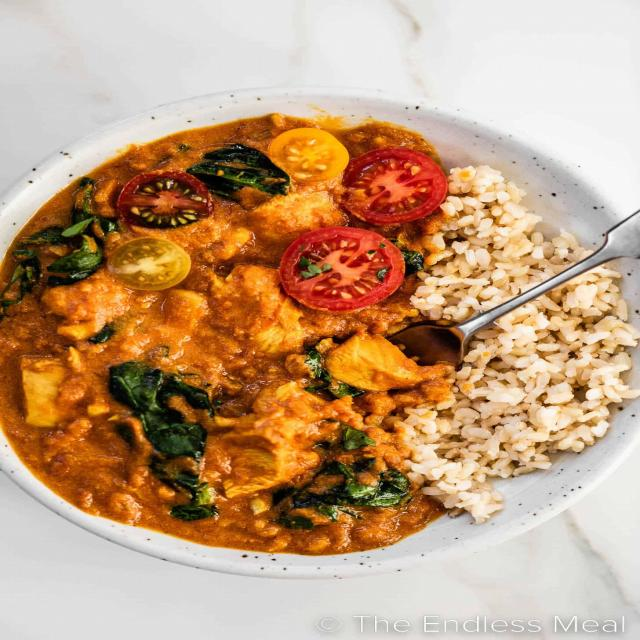chicken: (7, 136, 422, 541)
rice: (444, 186, 596, 504)
